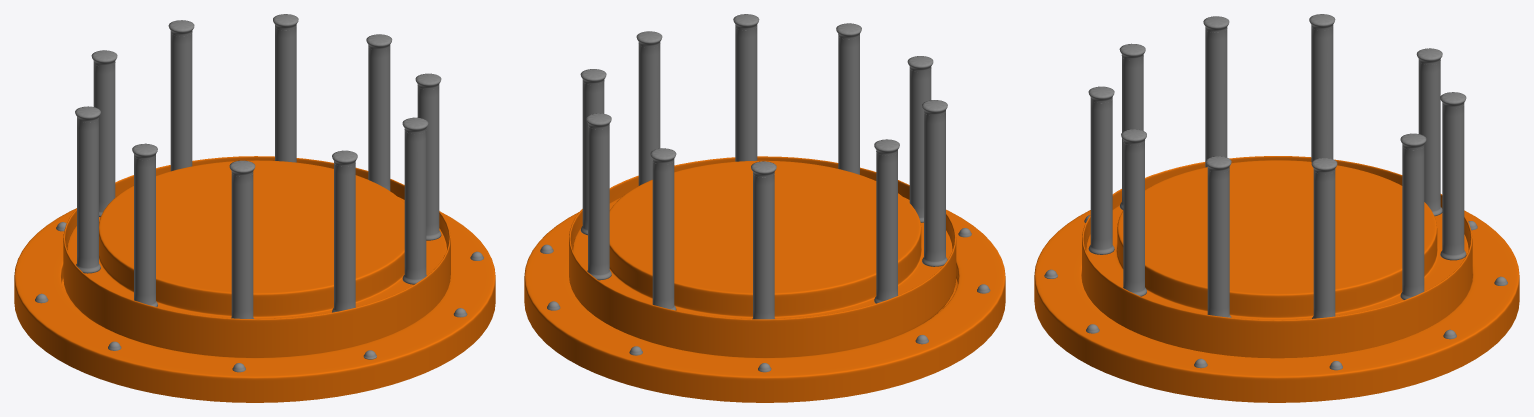
3 views of the same model, side by side, from view 1: azimuth 30°, elevation 25°; view 2: azimuth 150°, elevation 25°; view 3: azimuth 270°, elevation 25° (orthographic).
Parts seen in each view (by area): view 1: yellow, metal; view 2: yellow, metal; view 3: yellow, metal.
Boxes of the visible parts, x1,y1,x2,y2 form: yellow: (14, 156, 495, 402); metal: (35, 14, 483, 372); yellow: (524, 156, 1005, 402); metal: (540, 14, 990, 372); yellow: (1034, 156, 1519, 402); metal: (1044, 14, 1507, 370).
Bounding box in the file's own units: 26.63 × 12.78 × 26.64.
